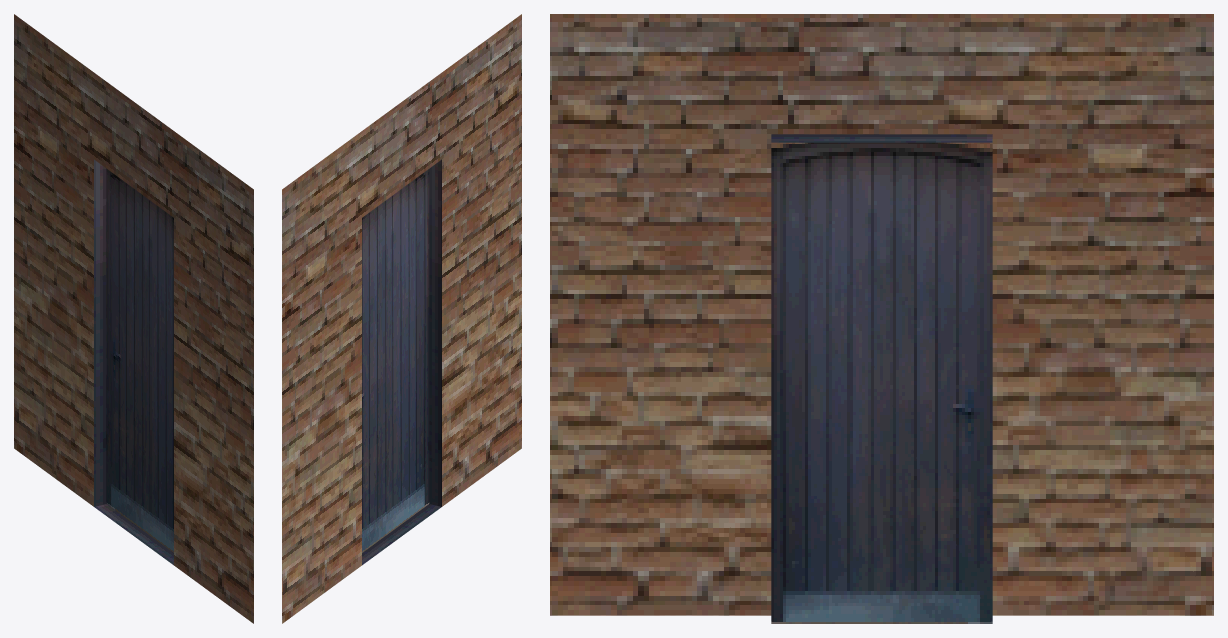
Rendered from brick_wall_door_indent.glb.
The picture shows the model from 3 angles, left to right: view 1: azimuth 30°, elevation 25°; view 2: azimuth 150°, elevation 25°; view 3: azimuth 270°, elevation 25°; orthographic projection. The views are drawn at different scales.
Visible parts, largest first — view 1: brick_wall_door_indent; view 2: brick_wall_door_indent; view 3: brick_wall_door_indent.
Boxes of the visible parts, x1,y1,x2,y2 form: brick_wall_door_indent: [14, 14, 253, 623]; brick_wall_door_indent: [282, 14, 521, 623]; brick_wall_door_indent: [550, 14, 1213, 623].
Size of the model in its own units: 0.0907 by 3 by 3.
Materials: 1 (1 with a texture image).
